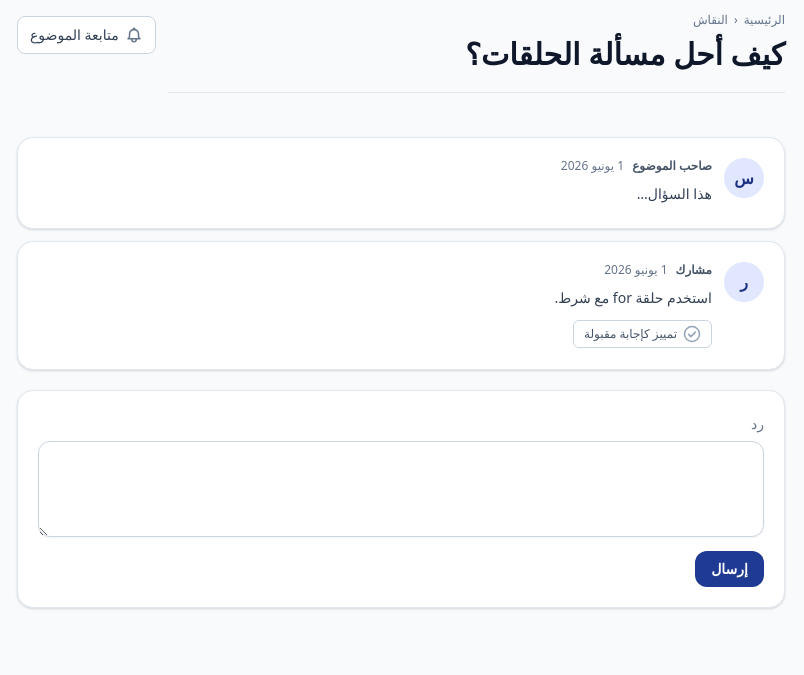
Test: ThreadPage — زرّ المتابعة (subscribe) › يعرض رسالة خطأ (role=alert) عند فشل المتابعة
Click the button "متابعة الموضوع" at point(86, 35), box left=17, top=16, right=156, bottom=54
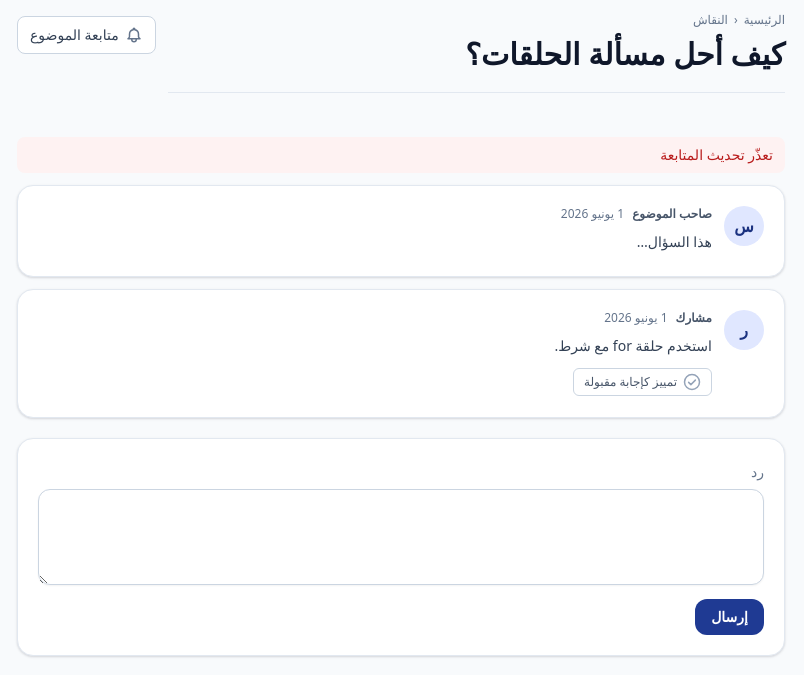
Now the message "تعذّر تحديث المتابعة" is shown, box left=17, top=137, right=785, bottom=173
